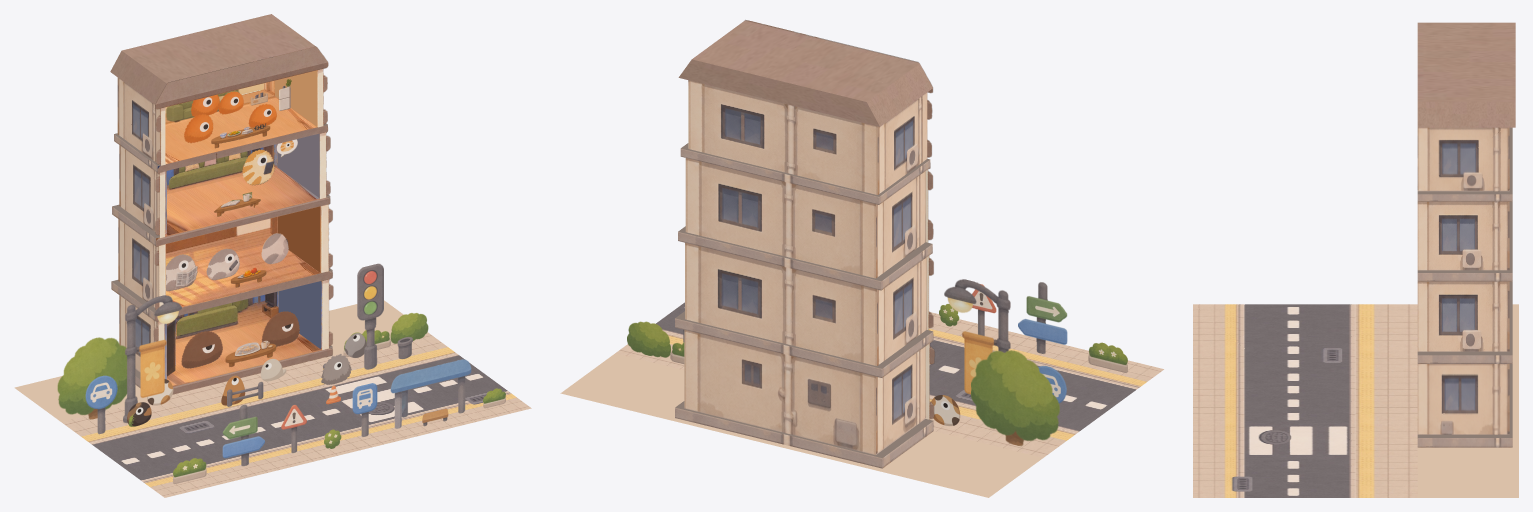
File: apartment.glb
The picture shows the model from 3 angles, left to right: view 1: azimuth 30°, elevation 25°; view 2: azimuth 150°, elevation 25°; view 3: azimuth 270°, elevation 25°; orthographic projection. The views are drawn at different scales.
Visible parts, largest first — view 1: ground, frame, back_wall, roof_ridge, f2_floor, f1_floor, street_21, f3_floor, ground_under, street_17, f4_floor, f3_wall_L (+26 smaller); view 2: f4_wall_B, f3_wall_B, f2_wall_B, f1_wall_B, ground, ground_under, roof_ridge, street_21, roof_back, f4_wall_L, f3_wall_L, f2_wall_L (+12 smaller); view 3: ground, roof_ridge, f4_wall_R, f3_wall_R, f2_wall_R, ground_under, f1_wall_R, roof_right, f4_slab_R, f2_slab_R, f3_slab_R, f1_slab_R (+3 smaller).
Boxes of the visible parts, bbox=[...] form: ground: bbox=[61, 332, 531, 497]; frame: bbox=[154, 46, 333, 394]; back_wall: bbox=[165, 80, 278, 343]; roof_ridge: bbox=[122, 14, 315, 83]; f2_floor: bbox=[167, 167, 319, 235]; f1_floor: bbox=[165, 96, 316, 164]; street_21: bbox=[57, 337, 127, 419]; f3_floor: bbox=[166, 246, 319, 306]; ground_under: bbox=[14, 300, 427, 421]; street_17: bbox=[123, 295, 181, 423]; f4_floor: bbox=[167, 321, 320, 385]; f3_wall_L: bbox=[118, 219, 158, 307]; f4_wall_B: bbox=[684, 330, 875, 454]; f3_wall_B: bbox=[685, 243, 876, 365]; f2_wall_B: bbox=[685, 158, 875, 278]; f1_wall_B: bbox=[688, 80, 877, 194]; ground: bbox=[615, 302, 1163, 457]; ground_under: bbox=[560, 353, 1042, 497]; roof_ridge: bbox=[692, 20, 919, 101]; street_21: bbox=[971, 350, 1059, 446]; roof_back: bbox=[678, 59, 879, 126]; f4_wall_L: bbox=[876, 346, 925, 454]; f3_wall_L: bbox=[877, 258, 926, 365]; f2_wall_L: bbox=[876, 171, 925, 277]; ground: bbox=[1193, 304, 1417, 497]; roof_ridge: bbox=[1417, 22, 1515, 101]; f4_wall_R: bbox=[1417, 364, 1509, 434]; f3_wall_R: bbox=[1417, 281, 1509, 351]; f2_wall_R: bbox=[1417, 201, 1509, 270]; ground_under: bbox=[1417, 304, 1518, 497]; f1_wall_R: bbox=[1417, 127, 1509, 191]; roof_right: bbox=[1417, 101, 1515, 127]; f4_slab_R: bbox=[1417, 438, 1512, 447]; f2_slab_R: bbox=[1417, 273, 1512, 281]; f3_slab_R: bbox=[1417, 355, 1512, 363]; f1_slab_R: bbox=[1417, 194, 1512, 201].
Size of the model in its own units: 2.05 by 1.64 by 1.42.
Materials: 125 (87 with a texture image).
